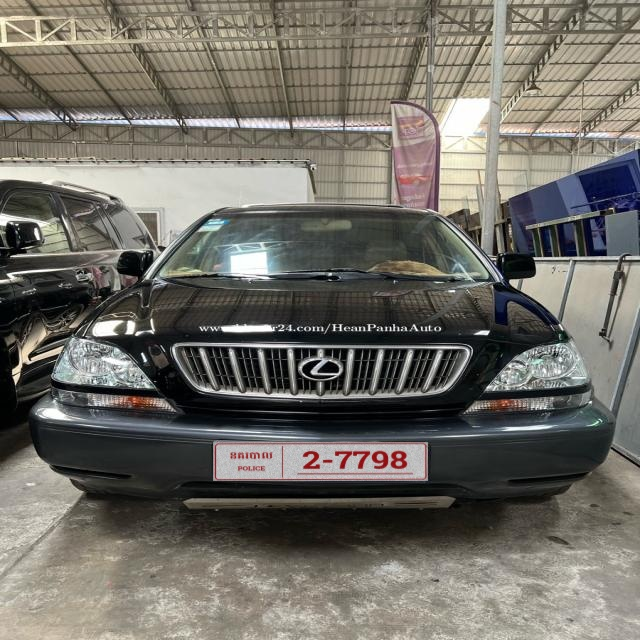Plate Number: (213, 442, 429, 481)
